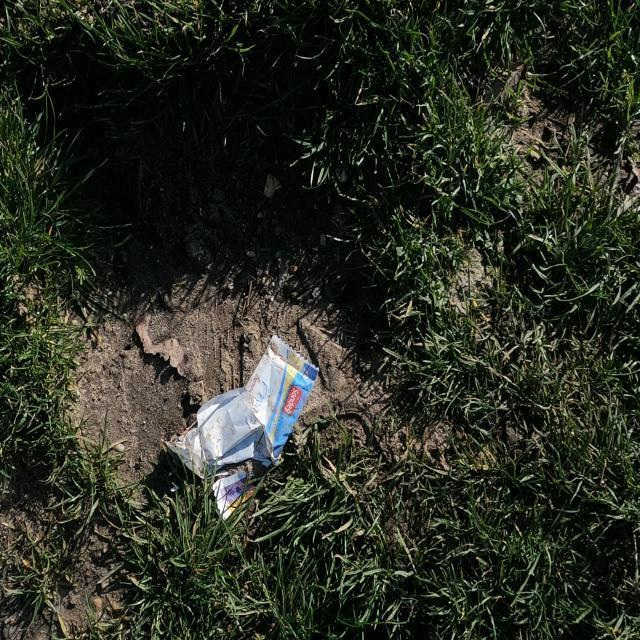Plastic: (162, 331, 320, 522)
